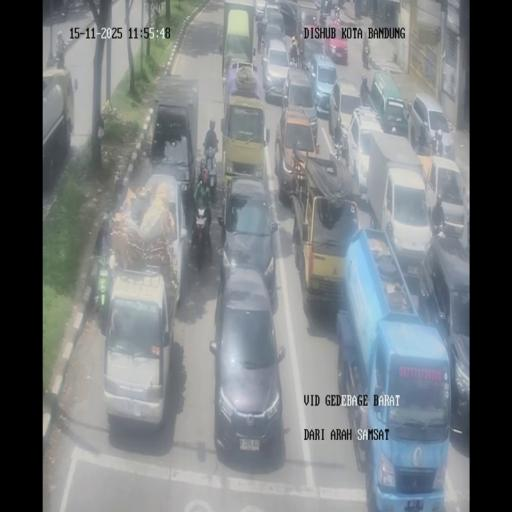car: (101, 266, 175, 430), (218, 176, 278, 300), (219, 92, 266, 200), (274, 106, 319, 203), (422, 156, 466, 238), (409, 92, 455, 160), (368, 70, 409, 137), (260, 38, 292, 102), (308, 52, 339, 117), (324, 19, 349, 64), (276, 0, 298, 33), (300, 11, 320, 36), (254, 0, 267, 21)
motorcycle: (191, 202, 211, 268), (206, 150, 218, 196), (114, 174, 126, 206), (432, 216, 448, 238), (341, 133, 350, 166), (410, 126, 420, 154), (360, 75, 369, 106), (300, 45, 310, 71), (198, 156, 208, 182), (258, 27, 267, 55), (288, 48, 300, 68), (427, 128, 436, 154), (362, 42, 370, 69), (318, 6, 328, 26), (54, 49, 64, 69), (60, 0, 70, 19), (333, 4, 341, 24), (46, 52, 55, 68), (60, 38, 68, 54)
truck: (338, 230, 450, 508), (292, 154, 362, 316), (363, 133, 429, 269), (146, 78, 200, 215), (41, 65, 75, 187), (222, 1, 256, 81), (329, 76, 364, 150)
